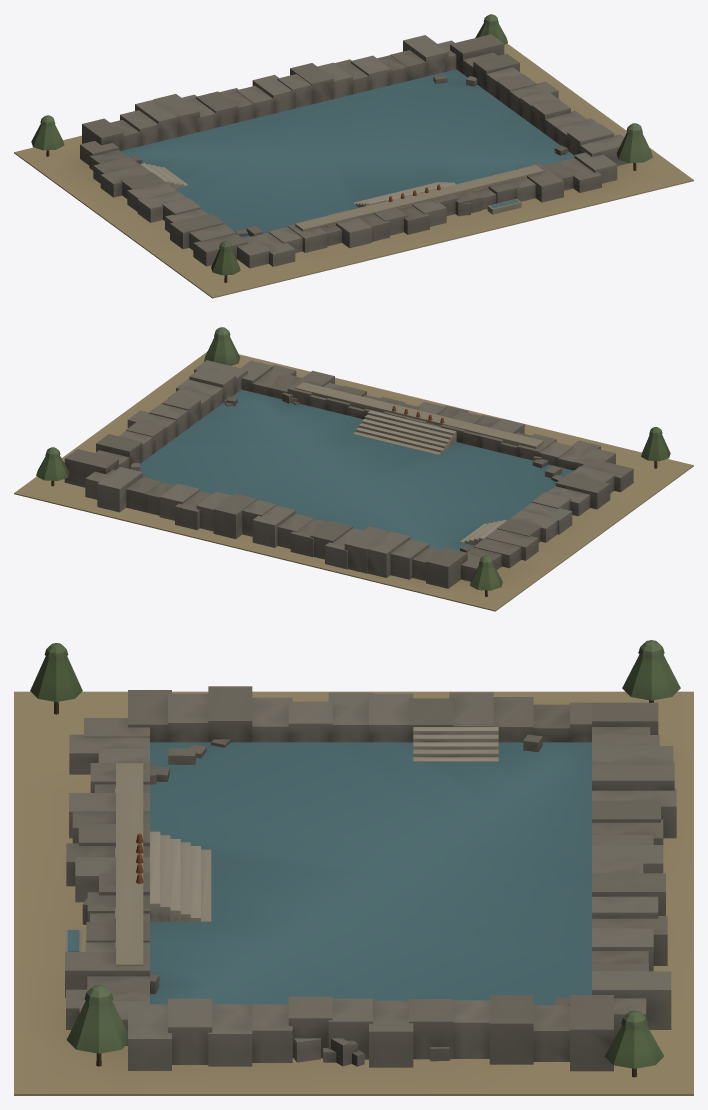
Rendered from mai-shum.glb.
The picture shows the model from 3 angles, top to bottom: view 1: azimuth 30°, elevation 25°; view 2: azimuth 150°, elevation 25°; view 3: azimuth 270°, elevation 25°; orthographic projection. The views are drawn at different scales.
Visible parts, largest first — view 1: p0_basin, p1_rock, p2_steps; view 2: p0_basin, p1_rock, p2_steps; view 3: p0_basin, p1_rock, p2_steps.
Boxes of the visible parts, x1,y1,x2,y2 form: p0_basin: (14,43,693,298); p1_rock: (80,34,629,268); p2_steps: (31,14,652,282); p0_basin: (14,351,693,611); p1_rock: (64,360,633,588); p2_steps: (36,327,670,596); p0_basin: (14,691,693,1095); p1_rock: (65,686,676,1071); p2_steps: (30,640,680,1077).
Bounding box in the file's own units: 56 × 5.29 × 40.
